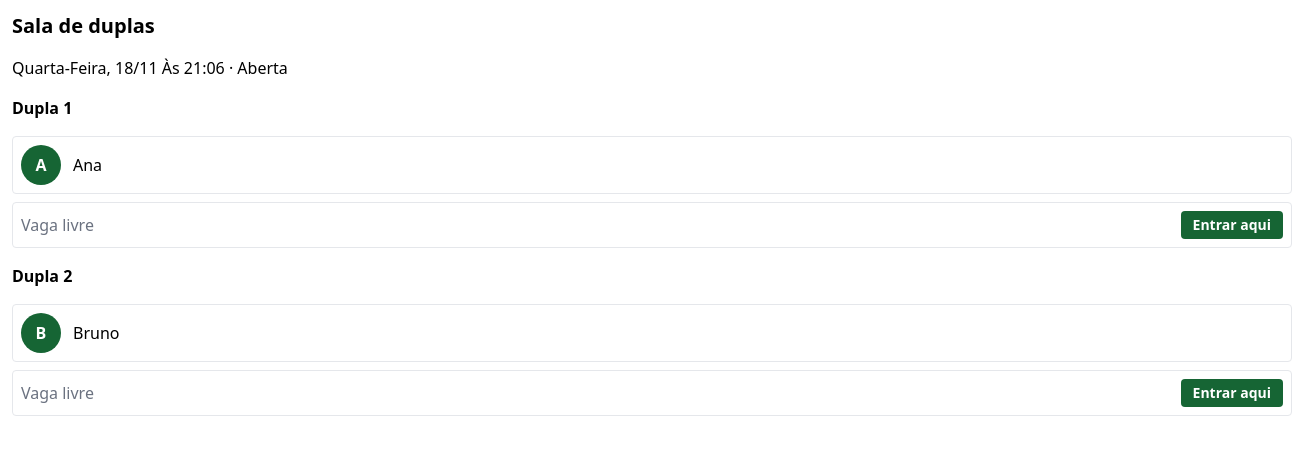
Scenario: VAGA_OCUPADA mostra mensagem e recarrega a sala
Click the 2nd button "Entrar aqui": point(1232, 393) [1181,379,1283,407]
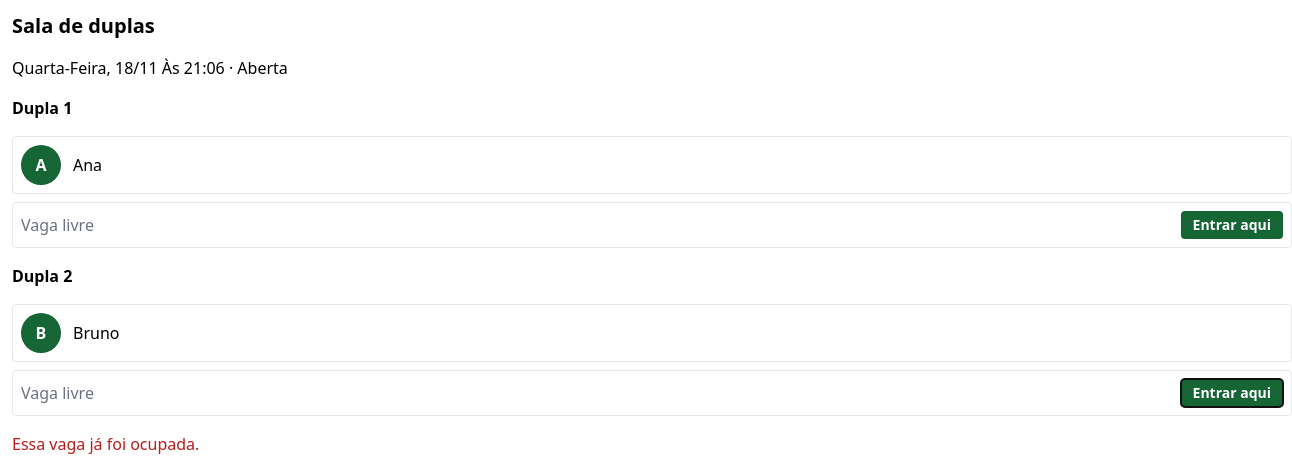
Check: the text "Essa vaga já foi ocupada." is shown, box [12,433,199,455]
